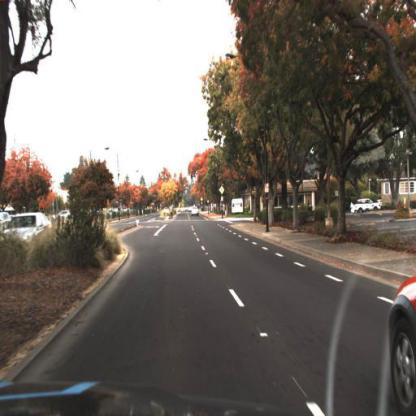car: (380, 246, 416, 410), (1, 212, 53, 253), (350, 196, 376, 213), (189, 203, 200, 218)
